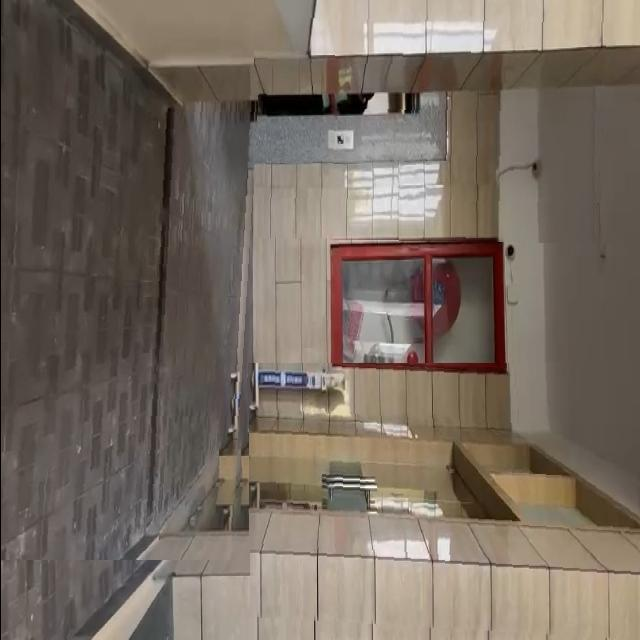floor: (0, 86, 258, 560)
wall: (246, 363, 636, 640), (253, 0, 640, 244)
